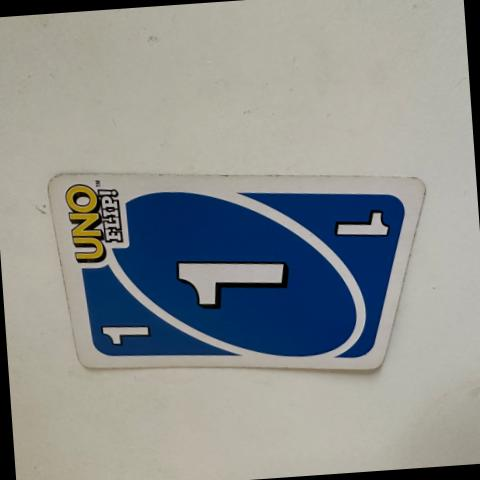lblue-1: (83, 300, 169, 362)
